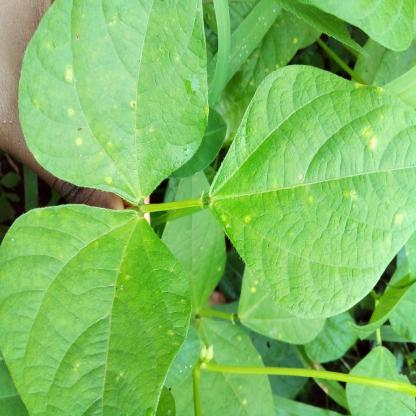Beans_Rust: (209, 68, 416, 316), (0, 203, 185, 416), (15, 0, 208, 201)
